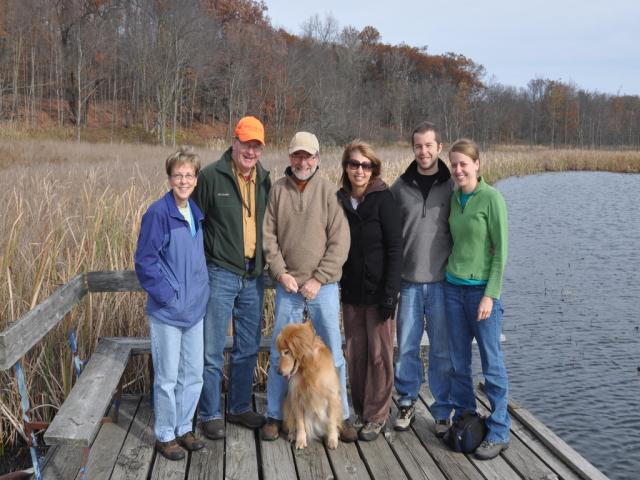Dog: (274, 321, 346, 450)
